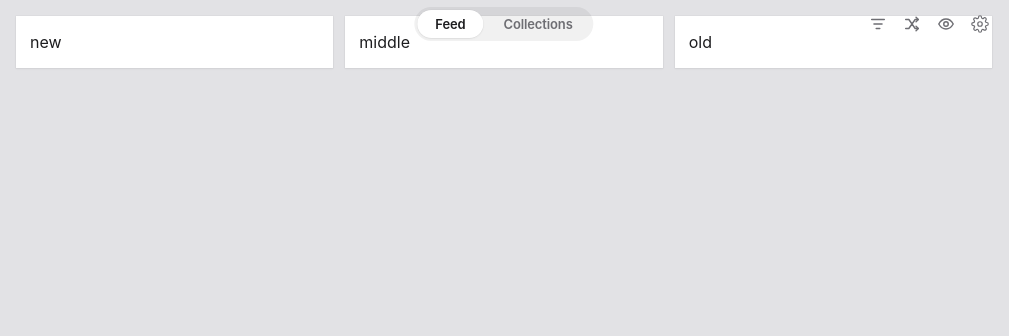
Test: HistoryPage board › sorts oldest-first and produces a stable random board from the filter
Click the button named "Sort memories" at (878, 24), box top-left (866, 12), bottom-right (890, 36)
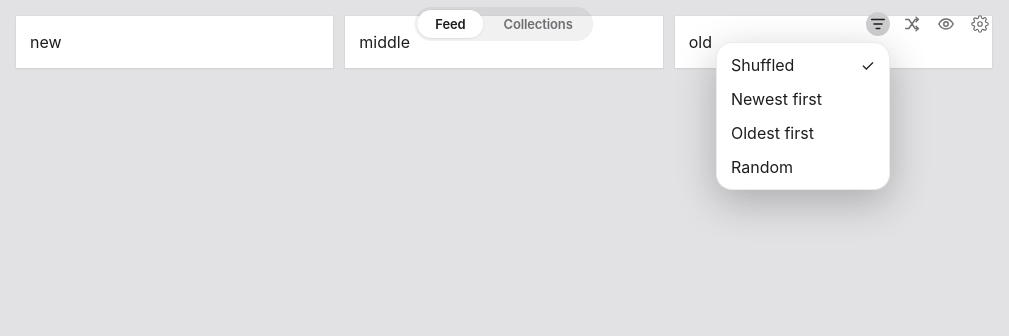
Move the pointer off the element with class "history-filter" that starts with "Shuffled", box top-left (866, 12), bottom-right (890, 36)
Expected: the menu with class "history-filter-menu" is shown, top-left (716, 42), bottom-right (890, 190)
Click the menu item "Oldest first" at (803, 133), box top-left (722, 116), bottom-right (884, 150)
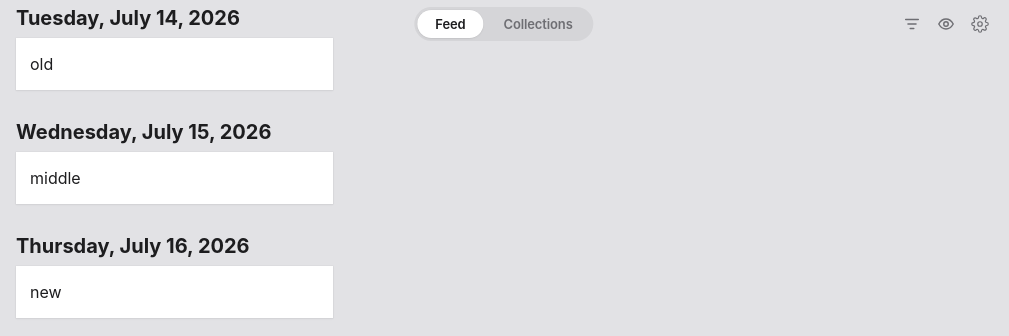
Click the button named "Sort memories" at (912, 24), box top-left (900, 12), bottom-right (924, 36)
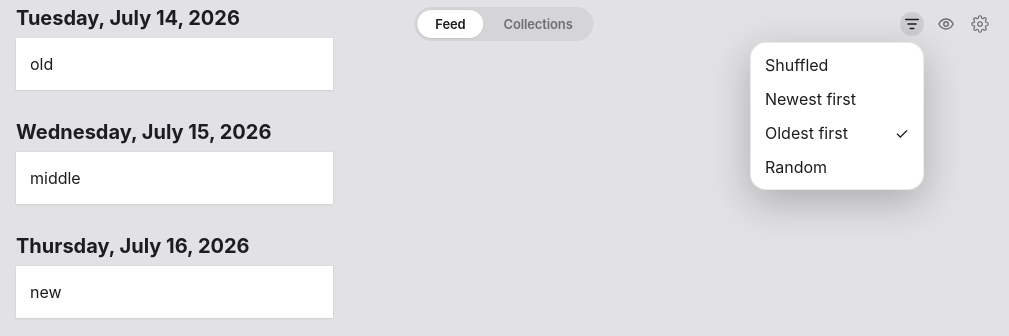
Click the menu item "Random" at (837, 167), box top-left (756, 150), bottom-right (918, 184)
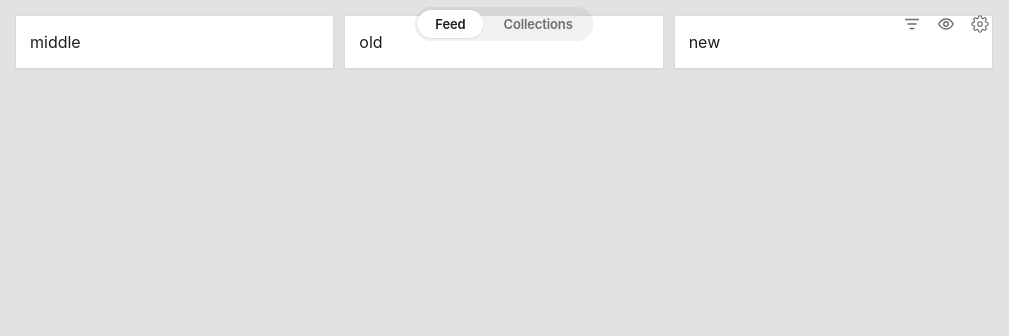
Expected: no elements with class "day-header-label" are shown
Expected: the element with class "random-board" is shown, top-left (16, 16), bottom-right (992, 68)
